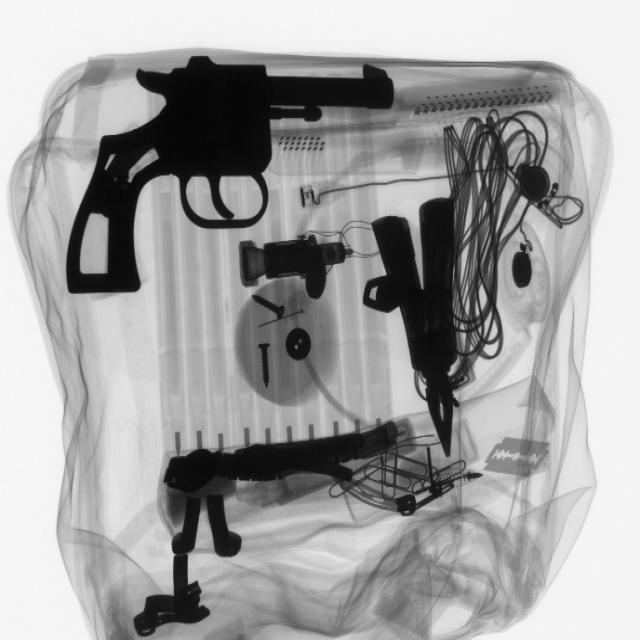BLADE: (479, 431, 556, 484)
GUN: (55, 59, 393, 304)
SCREW: (242, 287, 292, 327), (251, 336, 280, 390)
